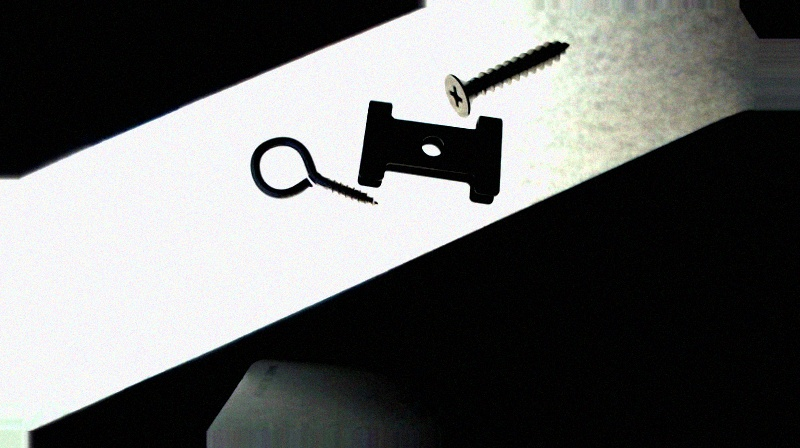O001: (250, 135, 381, 210)
O002: (356, 99, 503, 206)
S001: (441, 39, 571, 118)
